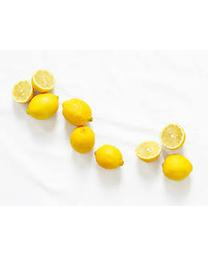lemon: (25, 94, 59, 119), (164, 152, 193, 181), (60, 99, 92, 124), (159, 122, 185, 149), (95, 145, 125, 168), (72, 127, 95, 155), (10, 80, 35, 103), (31, 70, 56, 91), (136, 140, 162, 160)
